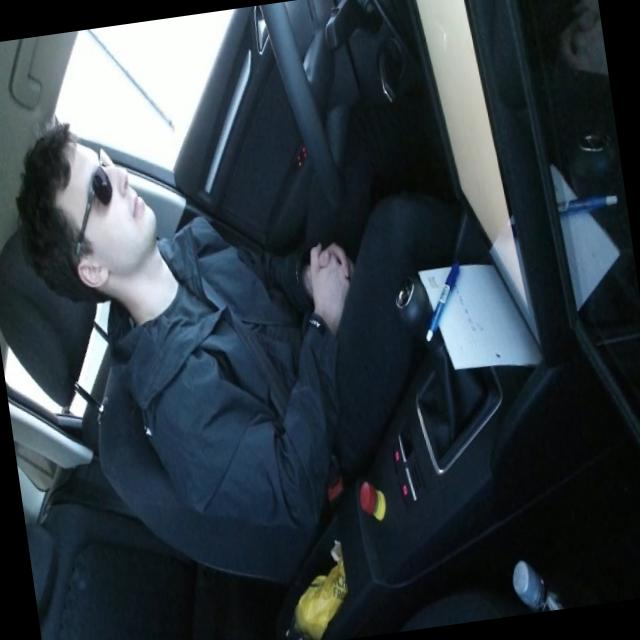pen: (414, 258, 470, 343)
